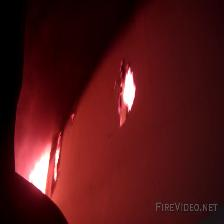fire: (11, 107, 78, 211)
nofire: (108, 63, 158, 129)
